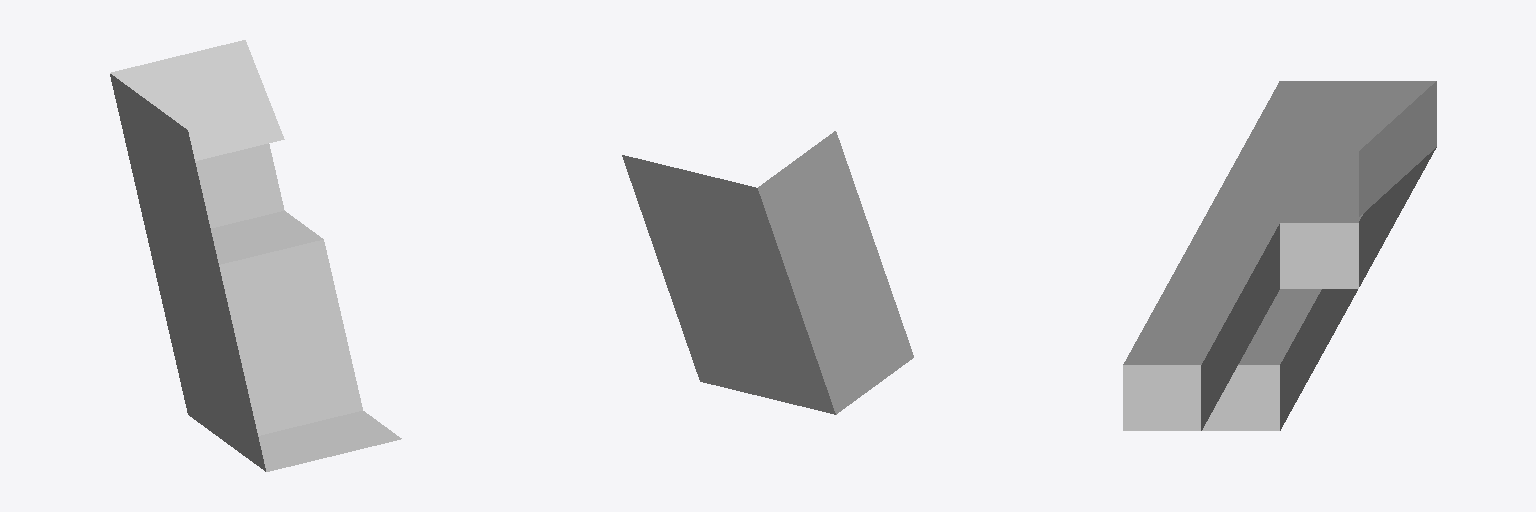
Rendered from tile_indoors_wall_6.obj.
The picture shows the model from 3 angles: view 1: azimuth 30°, elevation 25°; view 2: azimuth 150°, elevation 25°; view 3: azimuth 270°, elevation 25°; orthographic projection.
Parts seen in each view (by area): view 1: Default; view 2: Default; view 3: Default.
Boxes of the visible parts, x1,y1,x2,y2 form: Default: [110, 40, 401, 471]; Default: [622, 131, 913, 414]; Default: [1123, 81, 1436, 430].
Size of the model in its own units: 1 by 2 by 2.